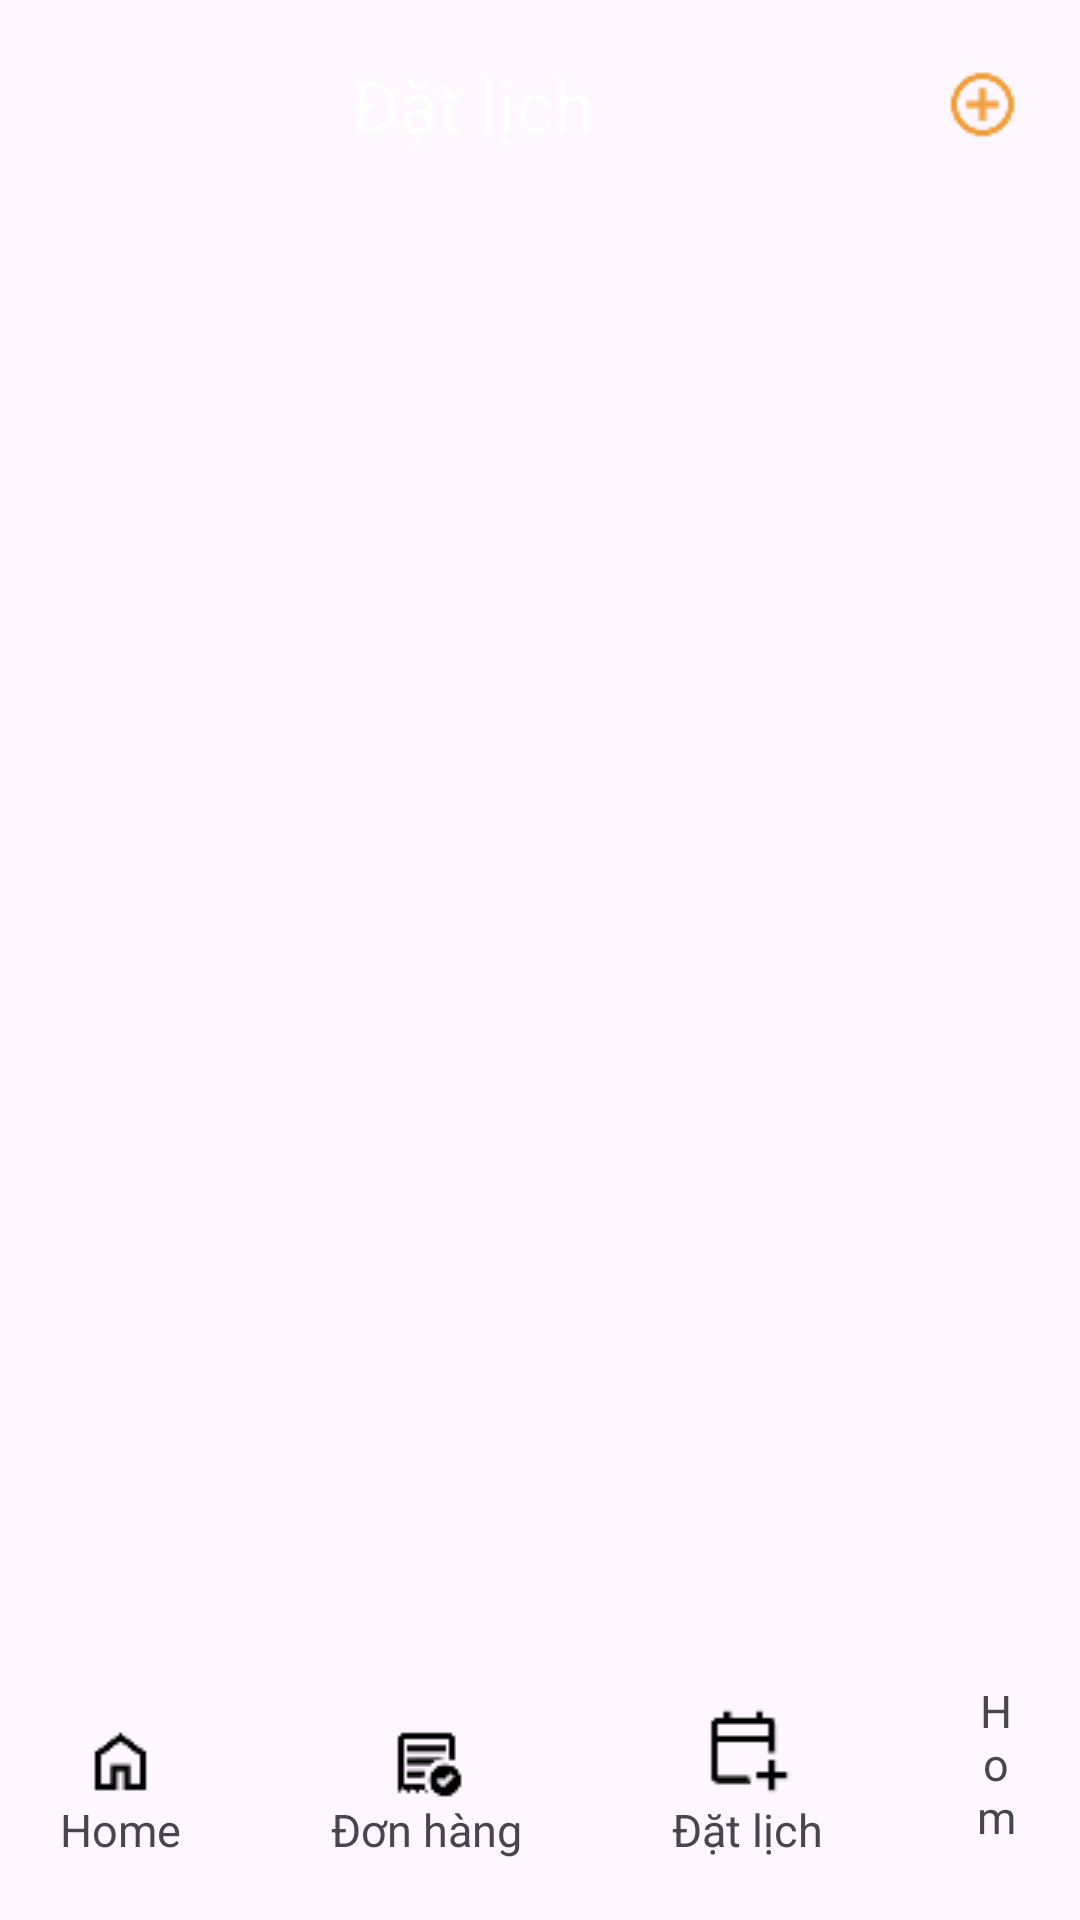

Screen size 1080px×1920px. Icon name, then its box in pixels as (x1=x1, y1=y1, x2=x2, y2=y2):
them: (x1=950, y1=72, x2=1015, y2=137)
